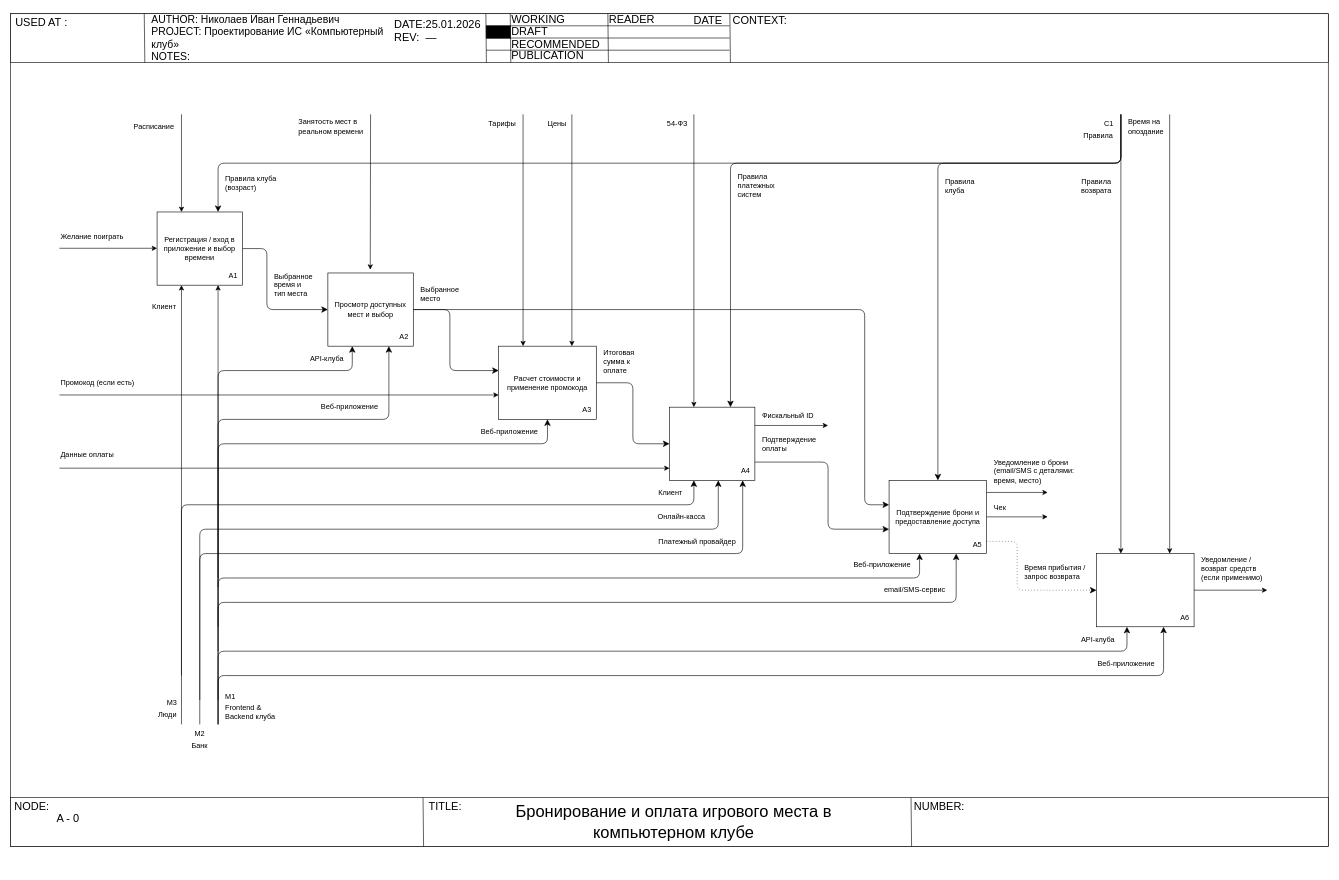
This 1339x880 diagram has some shape labels left out. The box of each missing label's shape, as (x1, y1, x2, y2) in pixels:
(Опционально) Обработка опоздания / возврата: (1096, 553, 1194, 627)
Онлайн-оплата через веб-приложение: (669, 407, 755, 480)
